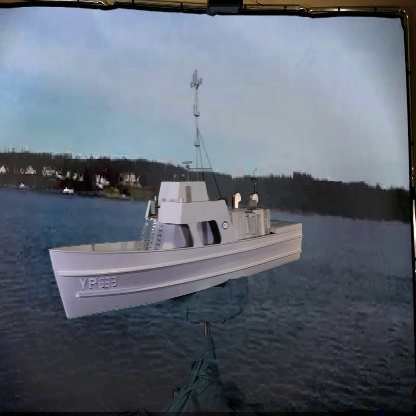YP689: (47, 71, 304, 322)
